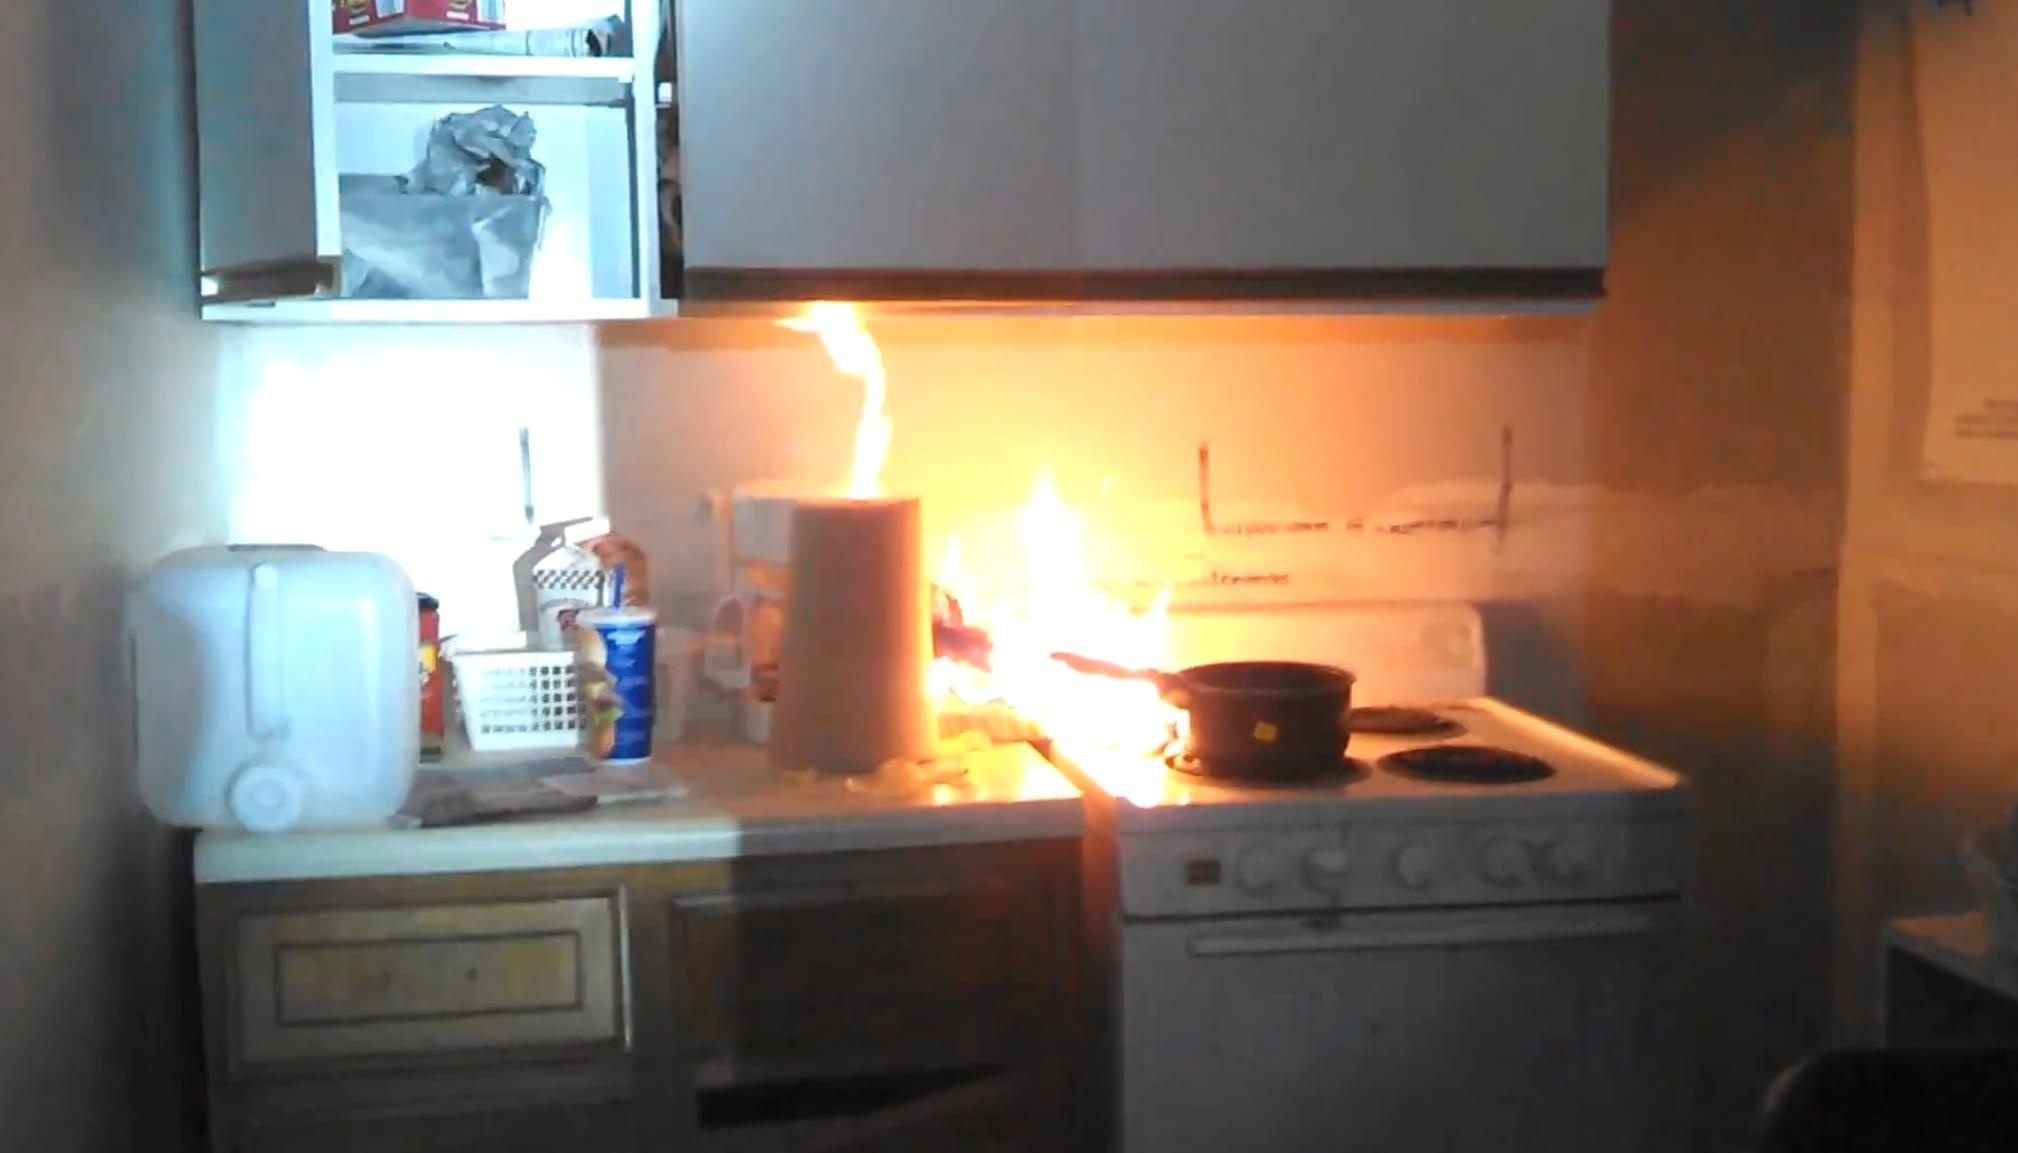fire: (924, 466, 1188, 795), (800, 292, 897, 491)
